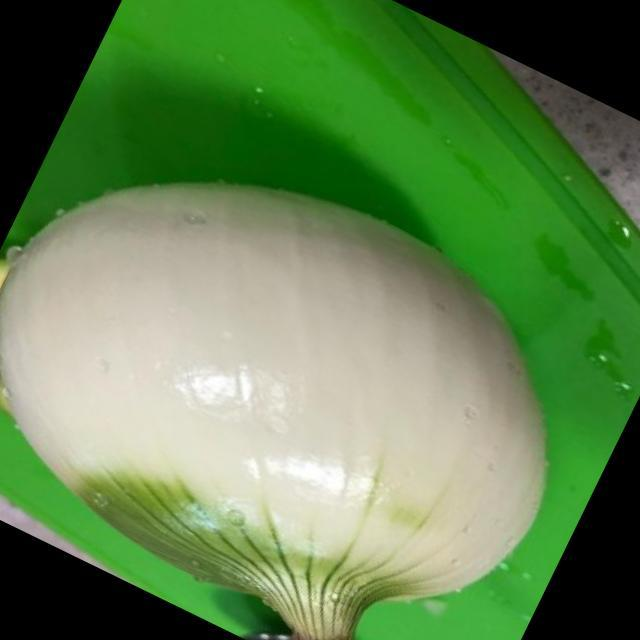Onion: (0, 183, 549, 640)
